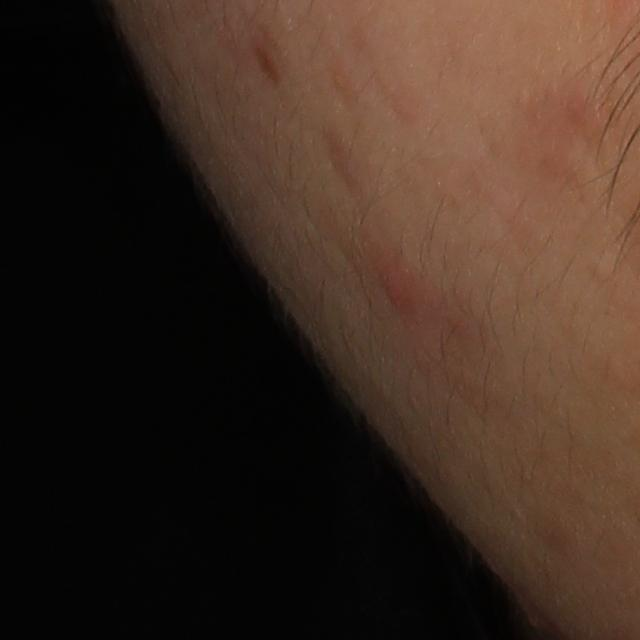papule: (373, 254, 415, 315)
